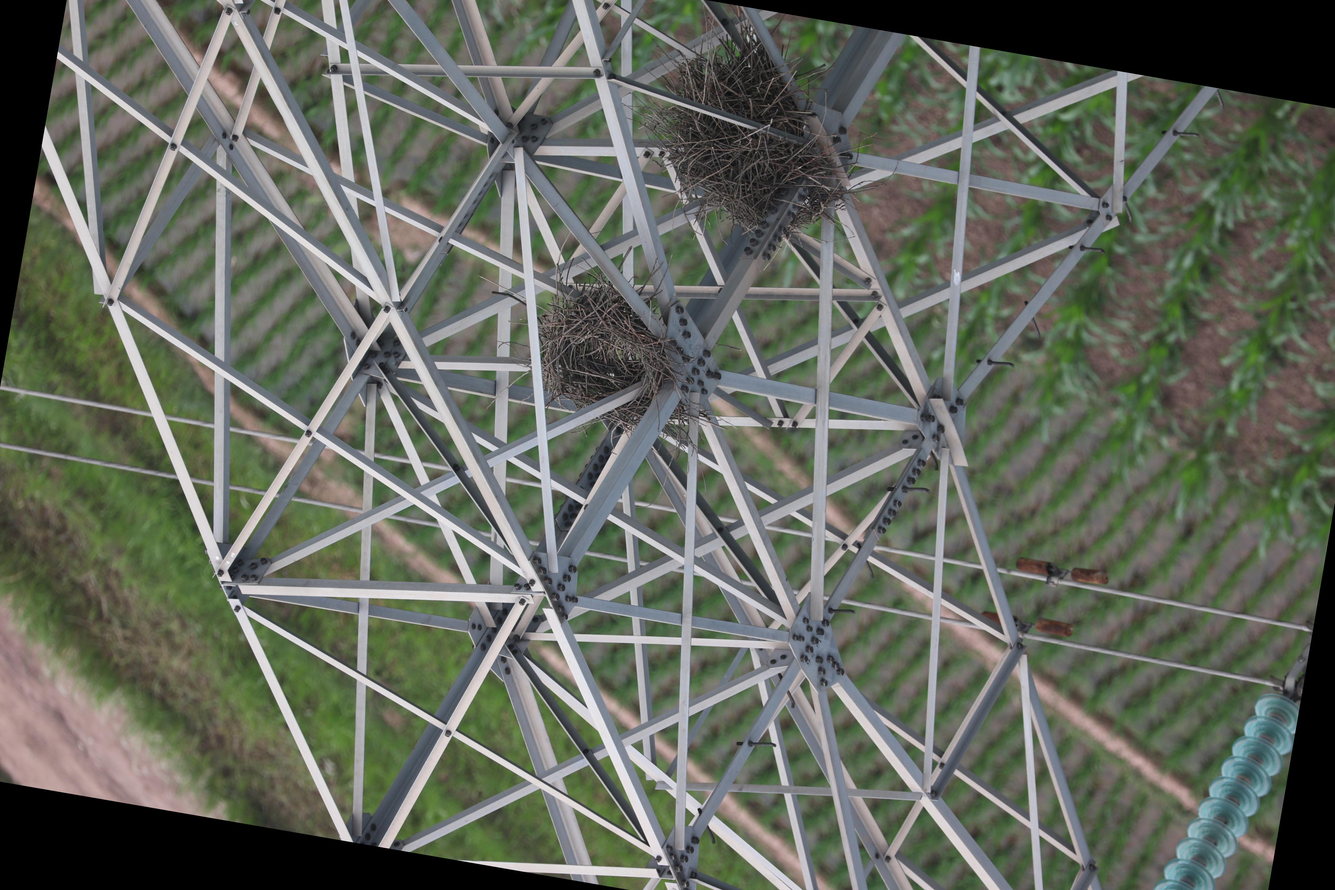damper_defect: (1010, 552, 1114, 600), (978, 606, 1078, 643)
